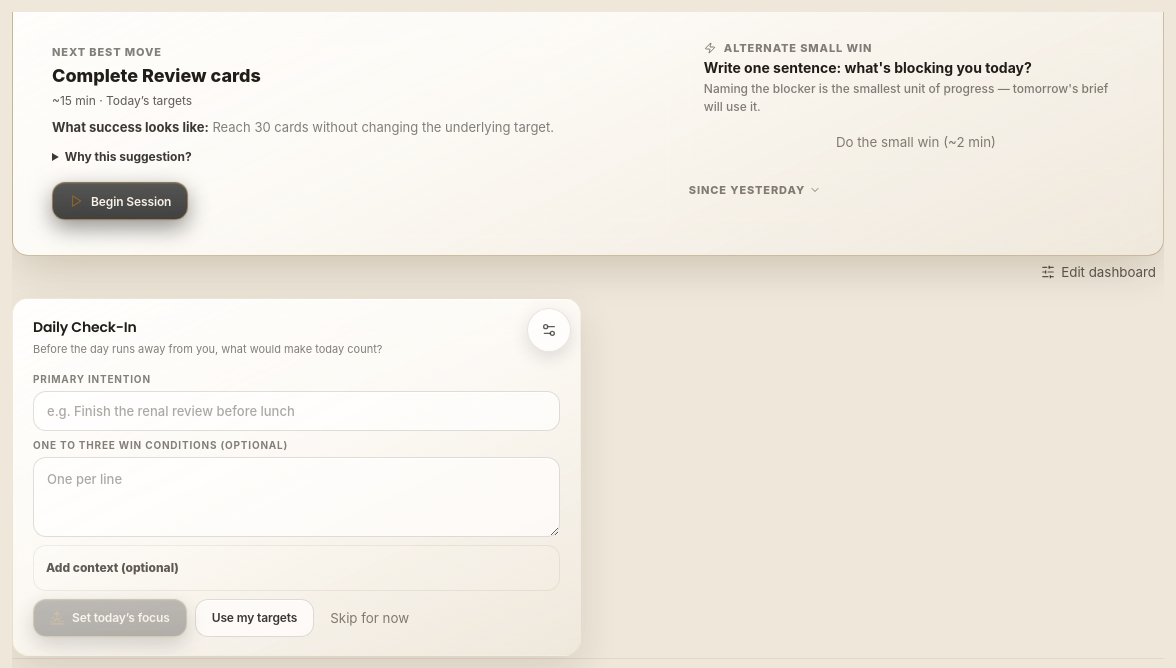
Test case: Dashboard Daily Check-In › uses the eligible configured target labels without inventing extra wins
(page scrolled)
Click the button "Use my targets" at (254, 618), box x1=195 y1=599 x2=314 y2=637
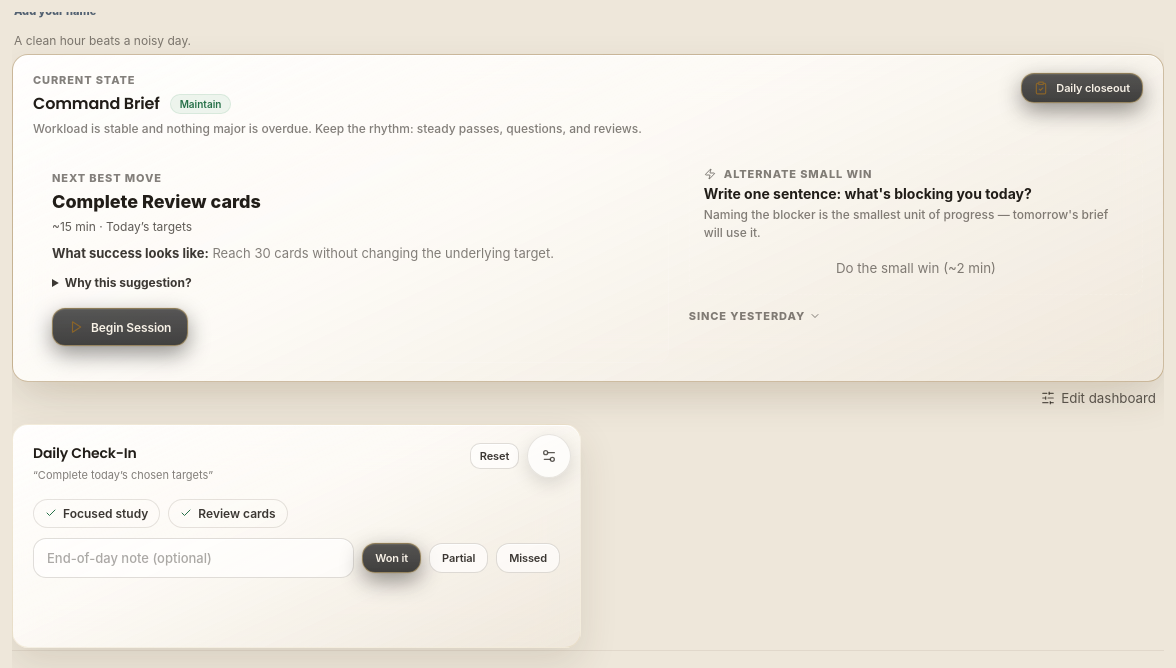
Expected: the text "Focused study" is shown, x1=33 y1=499 x2=160 y2=528
Expected: the text "Review cards" is shown, x1=168 y1=499 x2=288 y2=528
